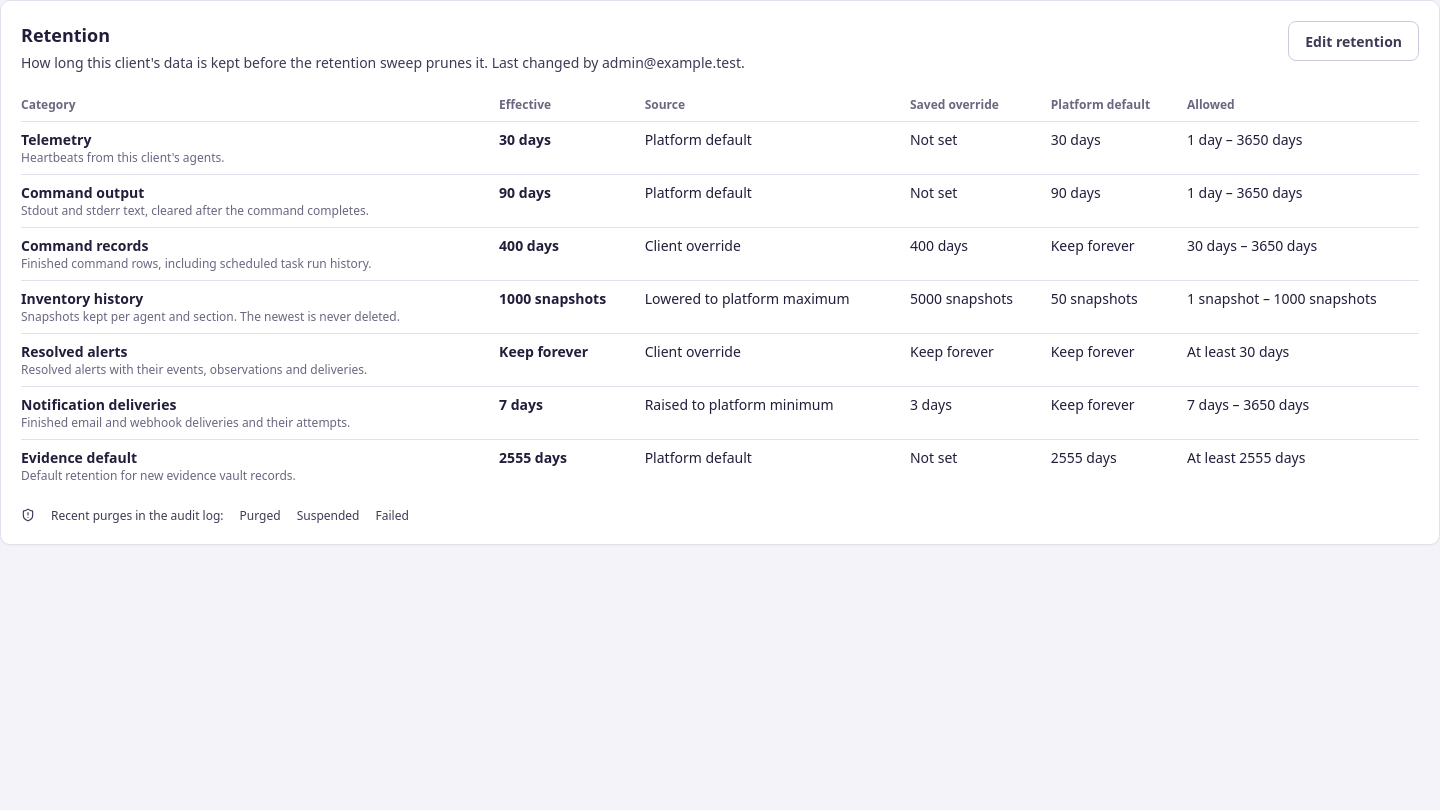
Scenario: an out-of-bounds value is caught on its field before any request
Click the button "Edit retention" at {"x": 1354, "y": 41}, box [1288,21,1419,61]
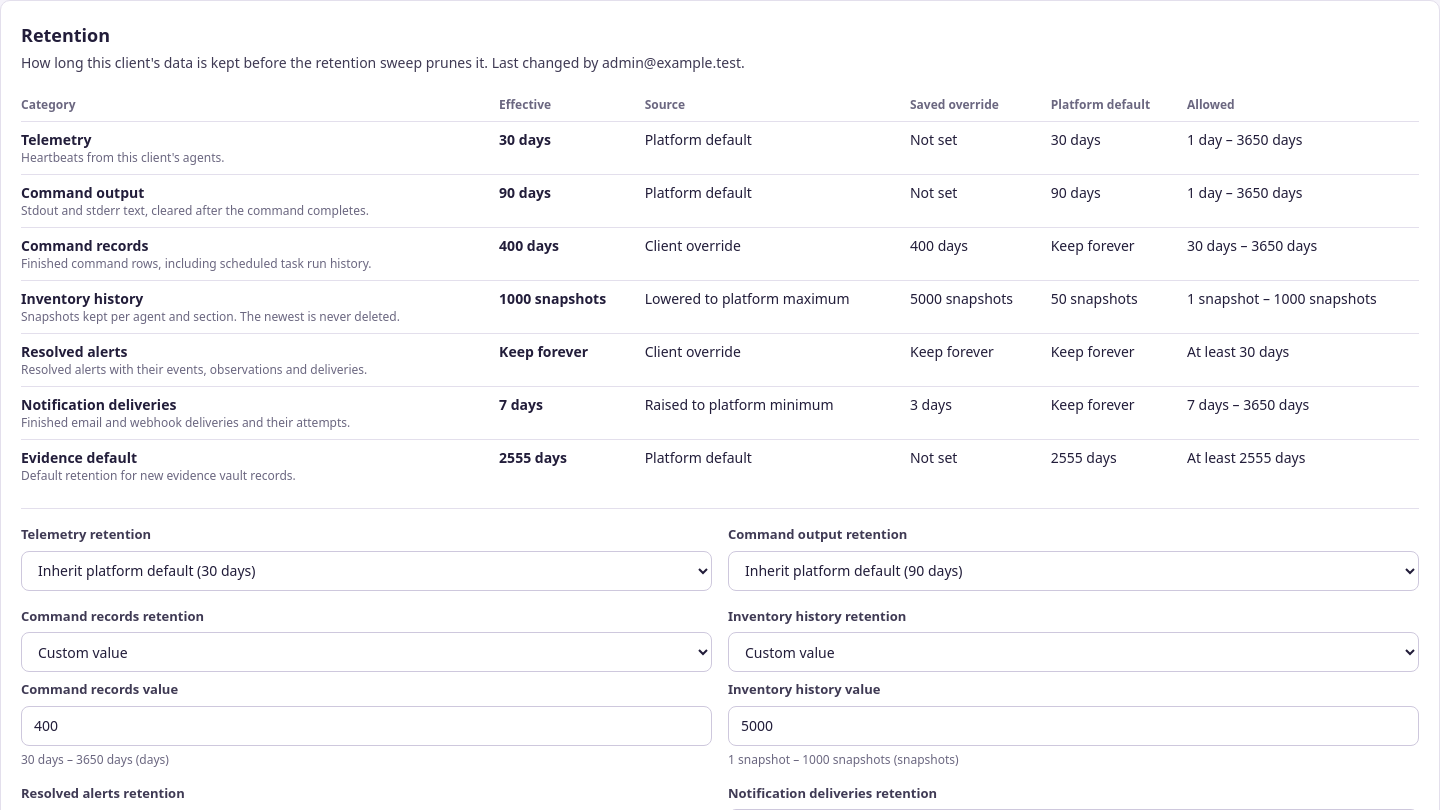
Select "Custom value" in the dropdown labelled "Inventory history retention" at {"x": 1074, "y": 652}, box [728,632,1419,672]
Replace the text in the field labelled "Inventory history value" with "1000" at {"x": 1074, "y": 726}, box [728,706,1419,746]
(page scrolled)
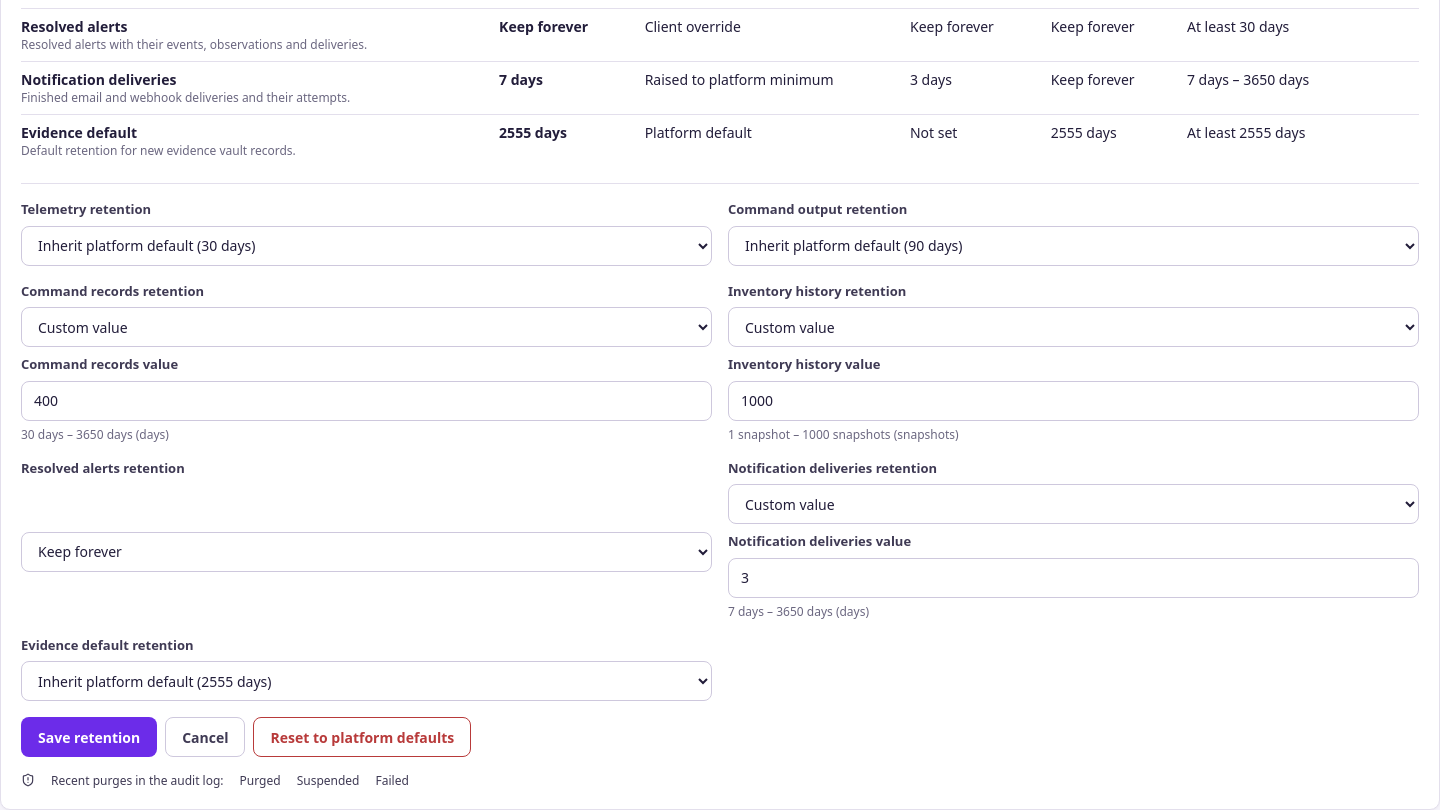
Select "Inherit platform default (Keep forever)" in the dropdown labelled "Notification deliveries retention" at {"x": 1074, "y": 504}, box [728,484,1419,524]
(page scrolled)
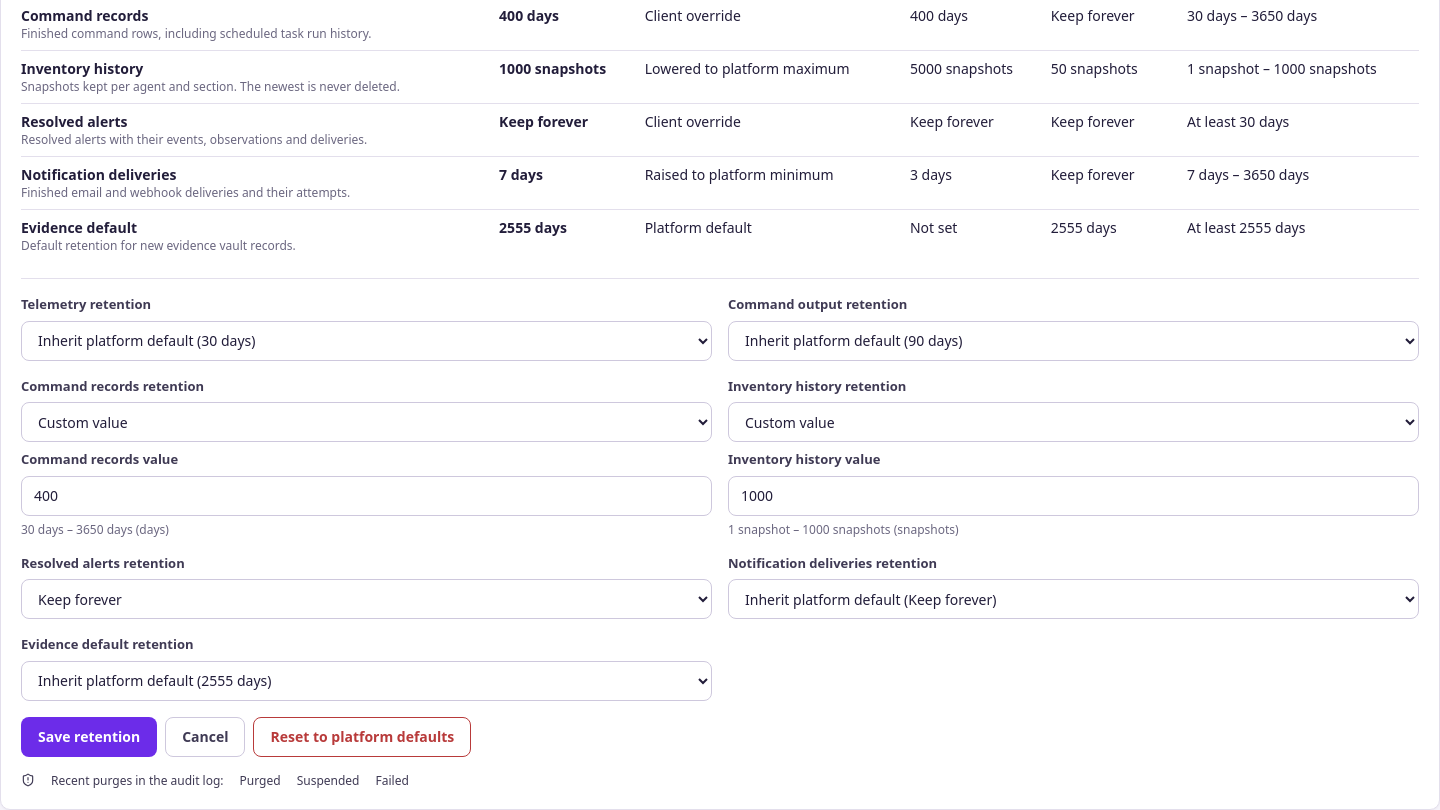
Select "Custom value" in the dropdown labelled "Command records retention" at {"x": 366, "y": 422}, box [21,402,712,442]
Replace the text in the field labelled "Command records value" with "10" at {"x": 366, "y": 496}, box [21,476,712,516]
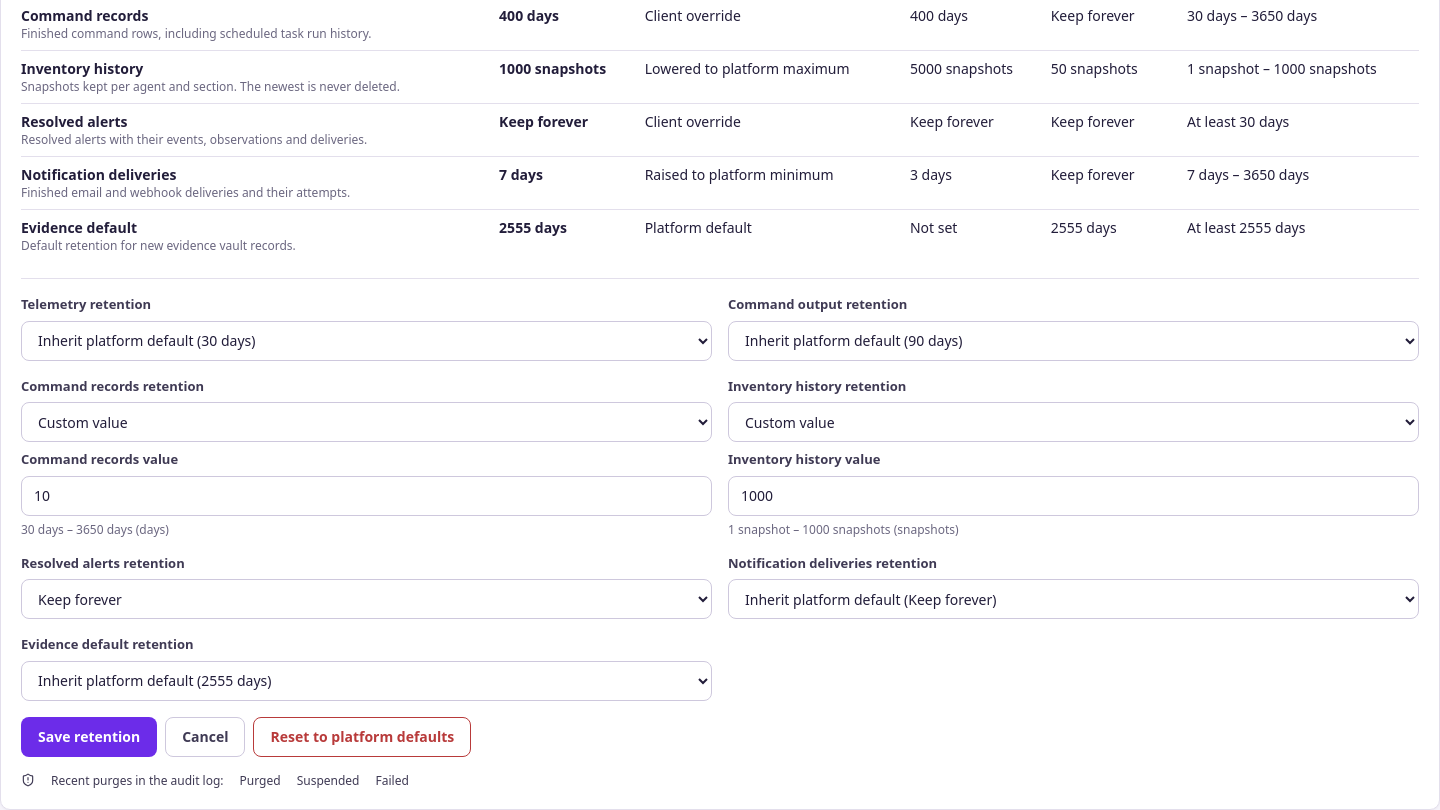
Click the button "Save retention" at {"x": 89, "y": 736}, box [21,716,157,756]
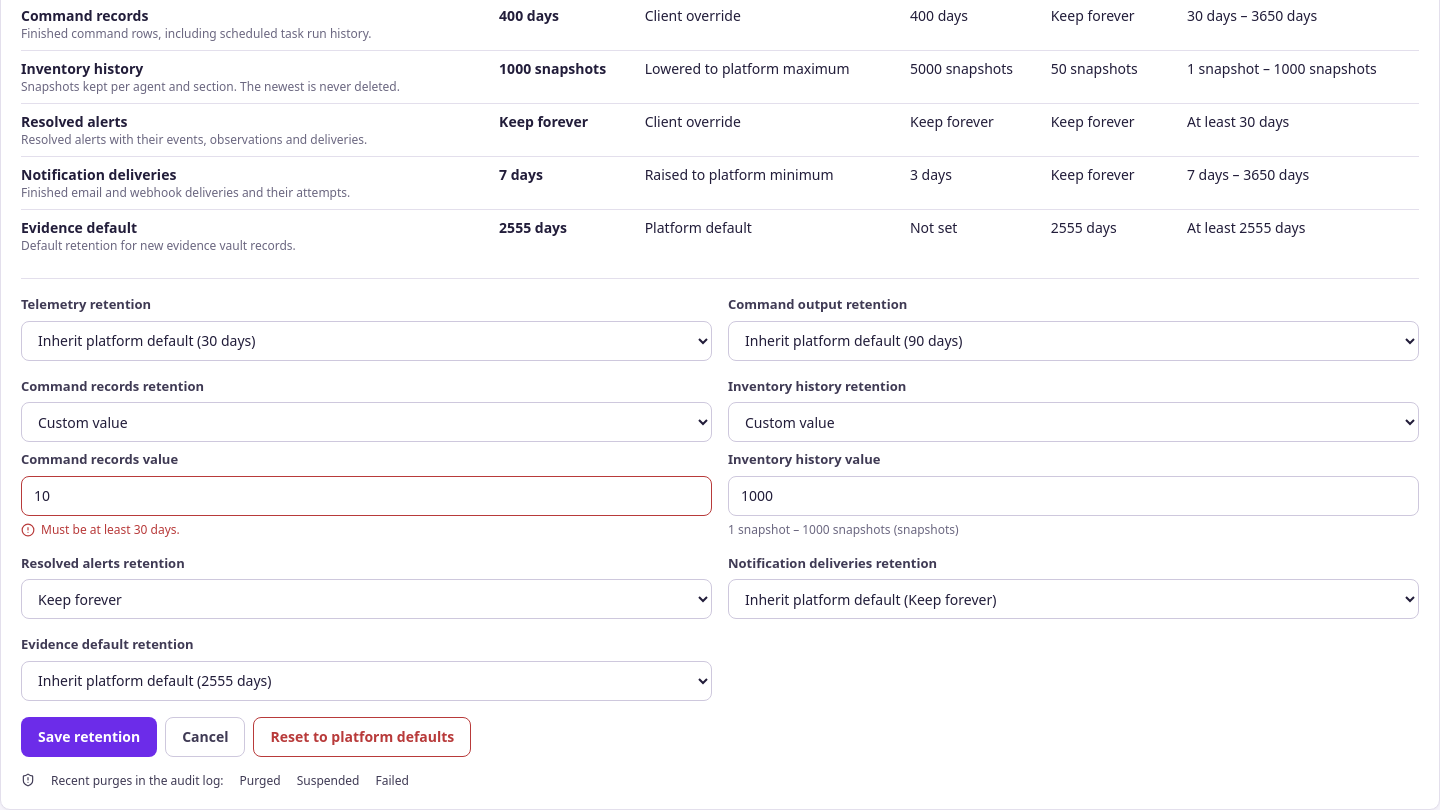
Now the text "Must be at least 30 days." is shown, box [21,520,180,538]
